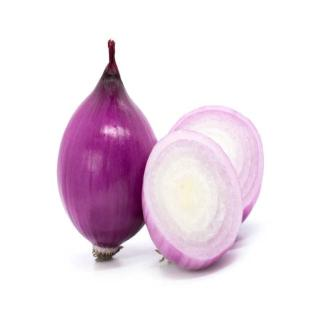Bawang Merah: (55, 38, 163, 266)
